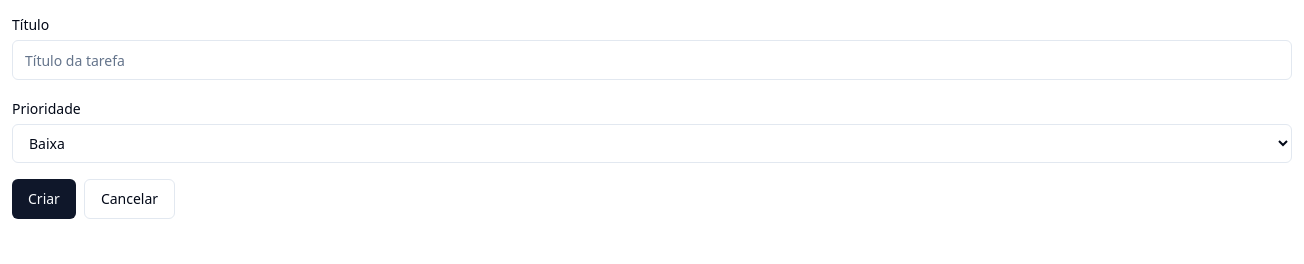
it: CreateTaskForm › shows validation error when title is empty
What coordinates should you click on to do the following:
click the button "Criar"
I would click on:
 (44, 199)
Its box is top-left (12, 179), bottom-right (76, 219).
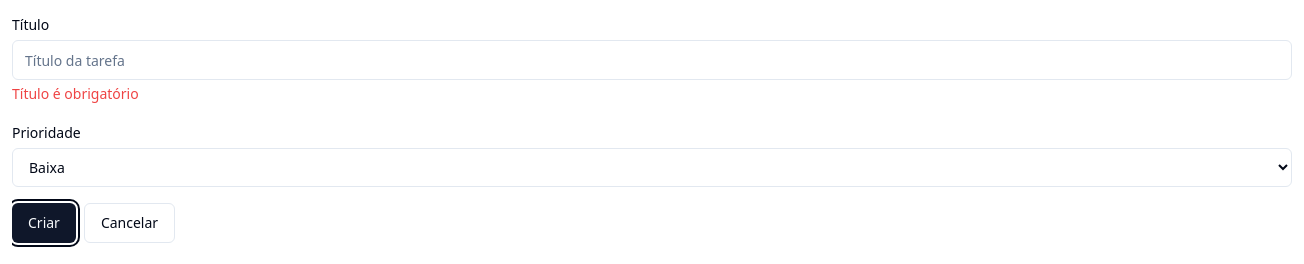
Result: the text "Título é obrigatório" is shown at top-left (12, 84), bottom-right (139, 103)
